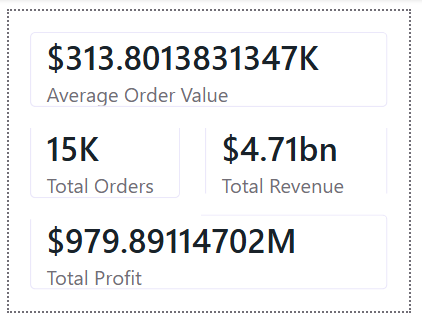

The dashboard page shown, as its layout file describes it:
{"tool":"powerbi","page":{"name":"Store Type Tooltip","canvas":[320,240],"ordinal":1},"visuals":[{"type":"cardVisual","fields":{"Data":["Fact Sales.Total Revenue"]},"box":[140,73,180,94],"z":0},{"type":"cardVisual","fields":{"Data":["Fact Sales.Total Profit"]},"box":[0,146,320,94],"z":1},{"type":"cardVisual","fields":{"Data":["Fact Sales.Total Orders"]},"box":[0,73,154,94],"z":2},{"type":"cardVisual","fields":{"Data":["Fact Sales.Average Order Value"]},"box":[0,0,320,94],"z":3}]}

Visuals, with their boxes on the page's 320x240 design canvas (x1, y1, x2, y2). These are canvas units, not pixel positions in the 422x327 screenshot, which may show the page scaled, cropped or inside an application window:
cardVisual - Fact Sales.Total Revenue: x1=140, y1=73, x2=320, y2=167
cardVisual - Fact Sales.Total Profit: x1=0, y1=146, x2=320, y2=240
cardVisual - Fact Sales.Total Orders: x1=0, y1=73, x2=154, y2=167
cardVisual - Fact Sales.Average Order Value: x1=0, y1=0, x2=320, y2=94
